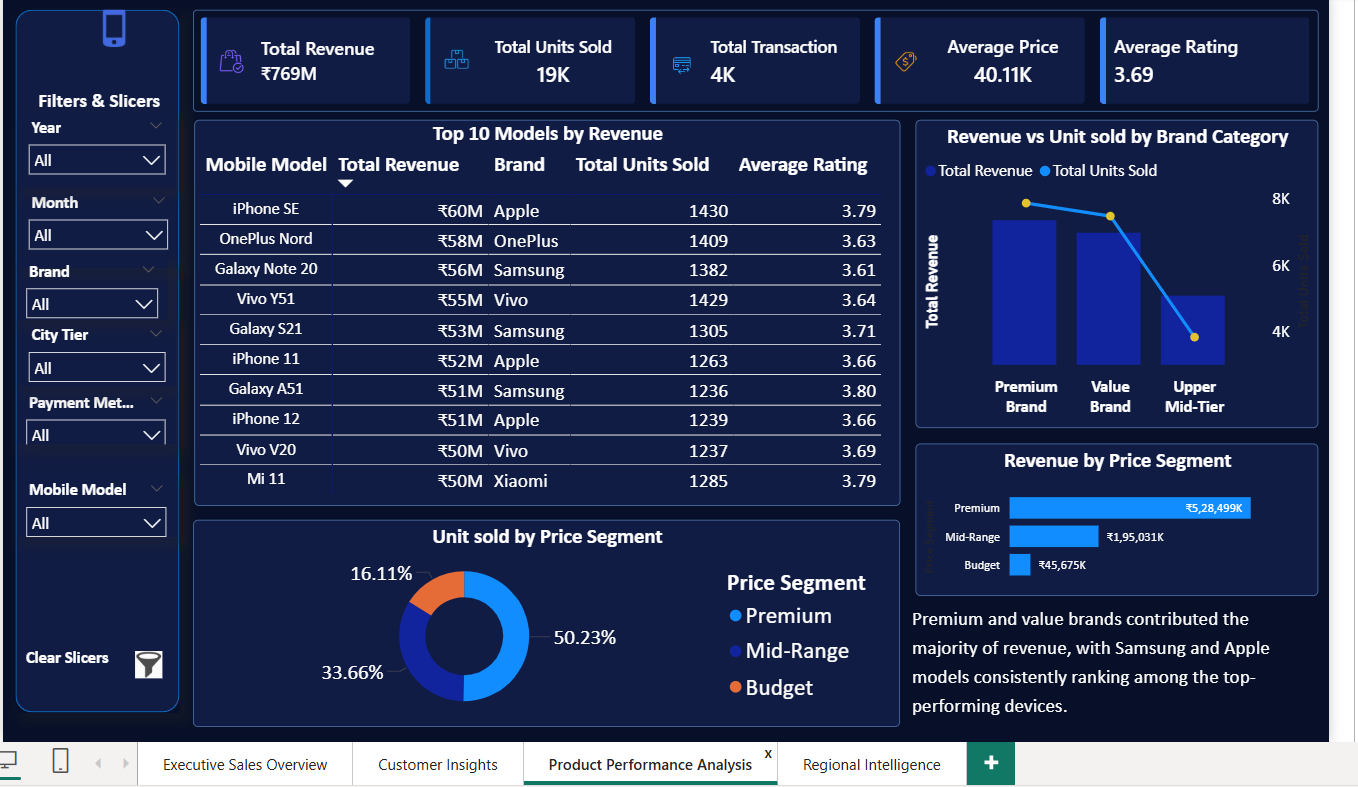

Layout of this report page (visuals, bound fields, positions):
{"tool":"powerbi","page":{"name":"Product Performance Analysis","canvas":[1280,720],"ordinal":2},"visuals":[{"type":"shape","box":[12.1,13.3,158,678],"z":0},{"type":"image","box":[16.9,13.3,181,36.2],"z":1000},{"type":"slicer","fields":{"Values":["Dim_Date.Date.Variation.Date Hierarchy.Month"]},"box":[15,185,155,78.8],"z":2000},{"type":"slicer","fields":{"Values":["Sales_Data.Brand"]},"box":[12.5,251.2,147.5,61.2],"z":3000},{"type":"slicer","fields":{"Values":["Sales_Data.Mobile Model"]},"box":[12.1,462.1,155.6,60.3],"z":4000},{"type":"slicer","fields":{"Values":["Sales_Data.Payment Method"]},"box":[12.5,377.5,155,55],"z":5000},{"type":"textbox","box":[29,80.8,155.6,38.6],"z":6000},{"type":"image","box":[121.9,632.2,37.4,26.5],"z":7000},{"type":"slicer","fields":{"Values":["Dim_Date.Date.Variation.Date Hierarchy.Year"]},"box":[15,112.5,152.5,72.5],"z":8000},{"type":"clusteredBarChart","title":"Revenue by Price Segment","fields":{"Category":["Dim_Product.Price Segment"],"Y":["Fact_Sales.Total Revenue"]},"box":[881.2,432.5,388.8,147.5],"z":9000},{"type":"slicer","fields":{"Values":["Dim_Customer.City Tier"]},"box":[15,312.5,152.5,65],"z":10000},{"type":"pivotTable","title":"Top 10 Models by Revenue","fields":{"Values":["Fact_Sales.Total Revenue","Min(Dim_Product.Brand)","Fact_Sales.Total Units Sold","Fact_Sales.Average Rating"],"Rows":["Dim_Product.Mobile Model"]},"box":[185,120,681.2,372.5],"z":11000},{"type":"textbox","box":[16.9,617.7,133.9,55.5],"z":12000},{"type":"lineClusteredColumnComboChart","title":"Revenue vs Unit sold by Brand Category","fields":{"Category":["Dim_Product.Brand Category"],"Y":["Fact_Sales.Total Revenue"],"Y2":["Fact_Sales.Total Units Sold"]},"box":[881.2,120,388.8,297.5],"z":14000},{"type":"cardVisual","fields":{"Data":["Sales_Data.Total Sales","Sales_Data.Total Quantity","Sales_Data.Total Transaction","Sales_Data.Average","Fact_Sales.Average Rating"]},"box":[183.8,13.8,1086.2,98.8],"z":15000},{"type":"textbox","box":[872.5,580,381.2,125],"z":16000},{"type":"clusteredColumnChart","title":"Units Sold by Price Segment","fields":{"Category":["Dim_Product.Price Segment"],"Y":["Fact_Sales.Total Units Sold"]},"box":[184.6,506.7,681.6,184.6],"z":16001}]}

Visuals, with their boxes on the page's 1280x720 design canvas (x1, y1, x2, y2). These are canvas units, not pixel positions in the 1358x787 screenshot, which may show the page scaled, cropped or inside an application window:
shape: x1=12 y1=13 x2=170 y2=691
image: x1=17 y1=13 x2=198 y2=50
slicer - Dim_Date.Date.Variation.Date Hierarchy.Month: x1=15 y1=185 x2=170 y2=264
slicer - Sales_Data.Brand: x1=12 y1=251 x2=160 y2=312
slicer - Sales_Data.Mobile Model: x1=12 y1=462 x2=168 y2=522
slicer - Sales_Data.Payment Method: x1=12 y1=378 x2=168 y2=432
textbox: x1=29 y1=81 x2=185 y2=119
image: x1=122 y1=632 x2=159 y2=659
slicer - Dim_Date.Date.Variation.Date Hierarchy.Year: x1=15 y1=112 x2=168 y2=185
"Revenue by Price Segment" clusteredBarChart: x1=881 y1=432 x2=1270 y2=580
slicer - Dim_Customer.City Tier: x1=15 y1=312 x2=168 y2=378
"Top 10 Models by Revenue" pivotTable: x1=185 y1=120 x2=866 y2=492
textbox: x1=17 y1=618 x2=151 y2=673
"Revenue vs Unit sold by Brand Category" lineClusteredColumnComboChart: x1=881 y1=120 x2=1270 y2=418
cardVisual - Sales_Data.Total Sales x Sales_Data.Total Quantity: x1=184 y1=14 x2=1270 y2=113
textbox: x1=872 y1=580 x2=1254 y2=705
"Units Sold by Price Segment" clusteredColumnChart: x1=185 y1=507 x2=866 y2=691
